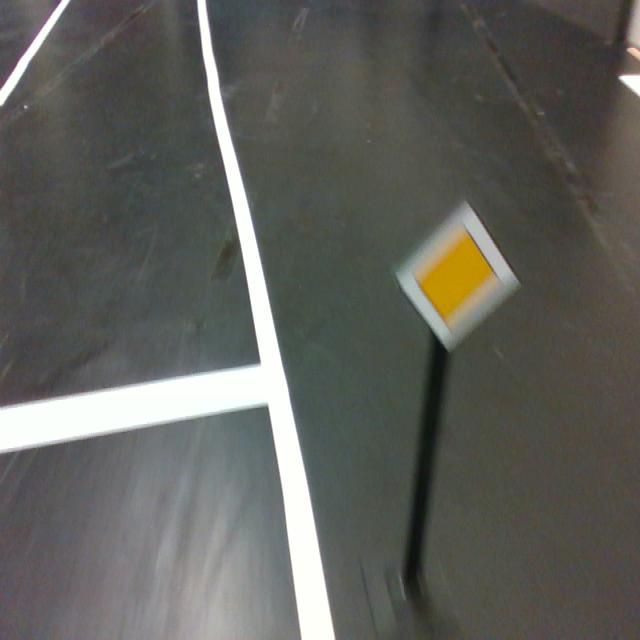priority-sign: (392, 197, 523, 356)
